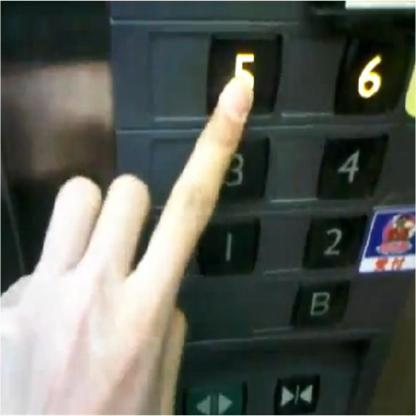1: (193, 215, 262, 277)
2: (299, 210, 369, 271)
3: (209, 134, 272, 206)
4: (311, 131, 390, 203)
5: (201, 28, 285, 117)
6: (331, 22, 415, 115)
B: (287, 280, 352, 330)
close: (270, 370, 324, 415)
open: (179, 374, 250, 413)
